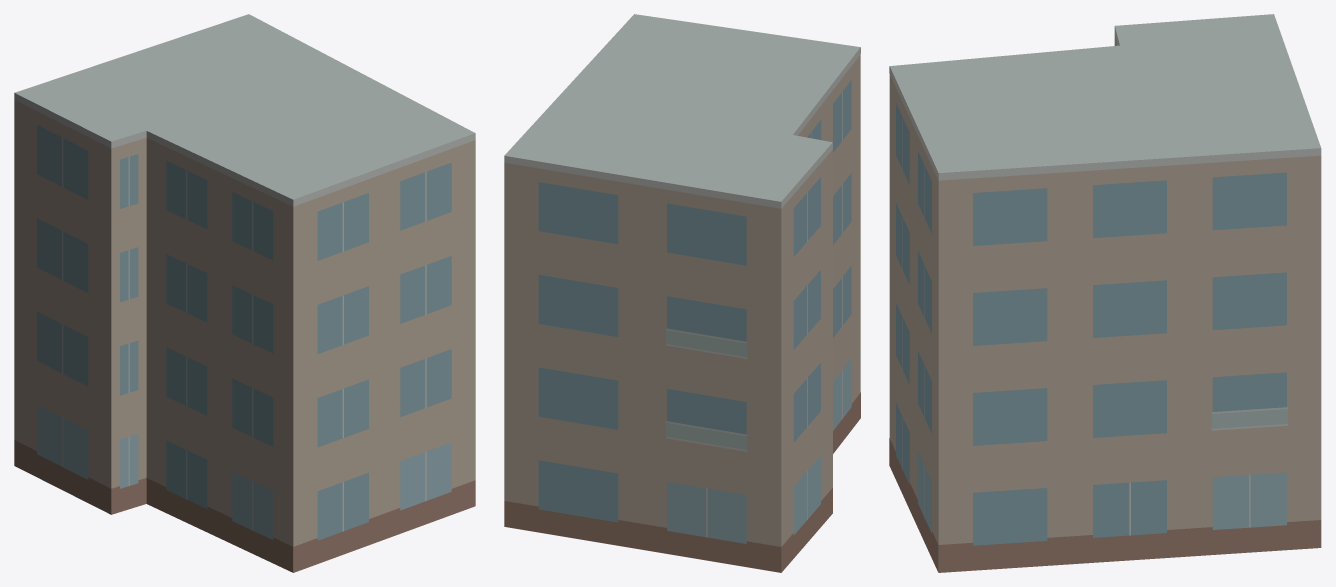
File: survey-upis-32731010.glb
The picture shows the model from 3 angles, left to right: view 1: azimuth 30°, elevation 25°; view 2: azimuth 150°, elevation 25°; view 3: azimuth 270°, elevation 25°; orthographic projection. The views are drawn at different scales.
Parts seen in each view (by area): view 1: survey-upis-32731010.tmp; view 2: survey-upis-32731010.tmp; view 3: survey-upis-32731010.tmp.
Boxes of the visible parts, <box> form: survey-upis-32731010.tmp: <box>14,14,475,572</box>; survey-upis-32731010.tmp: <box>504,14,860,572</box>; survey-upis-32731010.tmp: <box>889,14,1321,572</box>.
Size of the model in its own units: 11.2 by 13.1 by 12.84.
